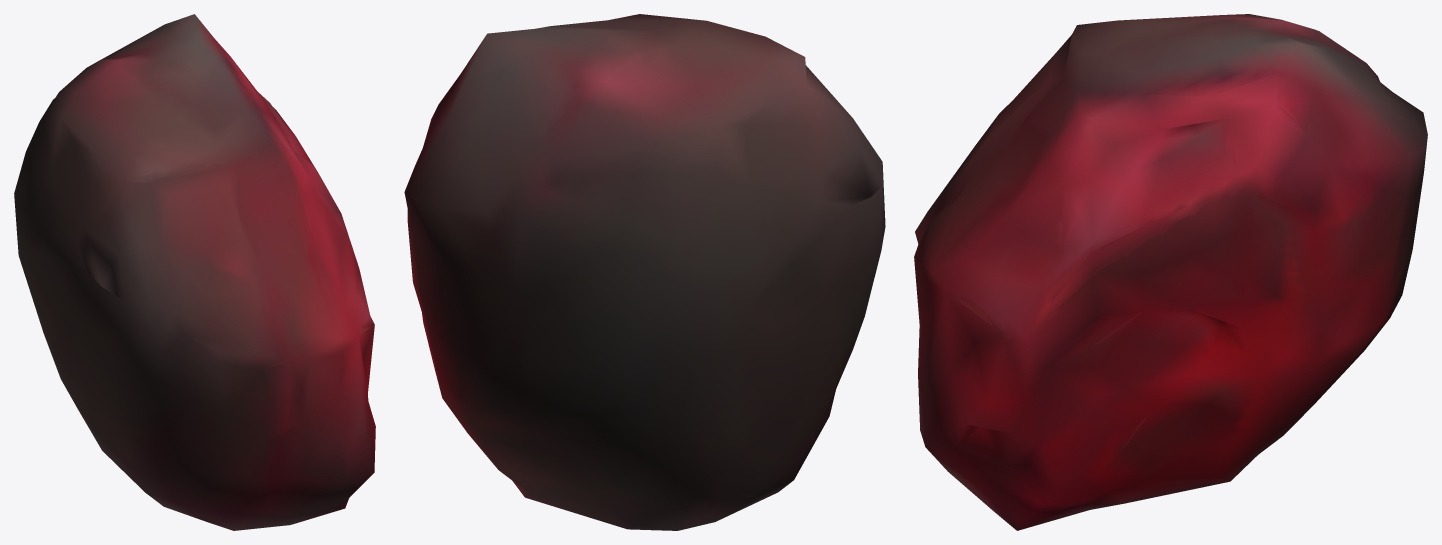
File: gem_leech.glb
3 views of the same model, side by side, from view 1: azimuth 30°, elevation 25°; view 2: azimuth 150°, elevation 25°; view 3: azimuth 270°, elevation 25° (orthographic). The views are drawn at different scales.
Visible parts, largest first — view 1: model; view 2: model; view 3: model.
Part boxes in pixels (bbox=[...]): model: bbox=[14, 14, 375, 530]; model: bbox=[404, 14, 885, 530]; model: bbox=[914, 14, 1427, 530].
Size of the model in its own units: 0.2597 by 0.3977 by 0.3898.
1 material, 1 textured.
